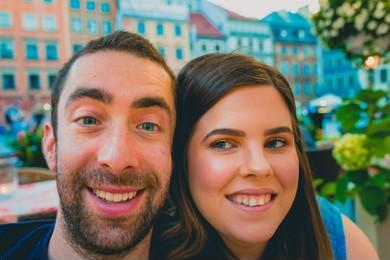face: (56, 51, 173, 251), (188, 83, 302, 244)
